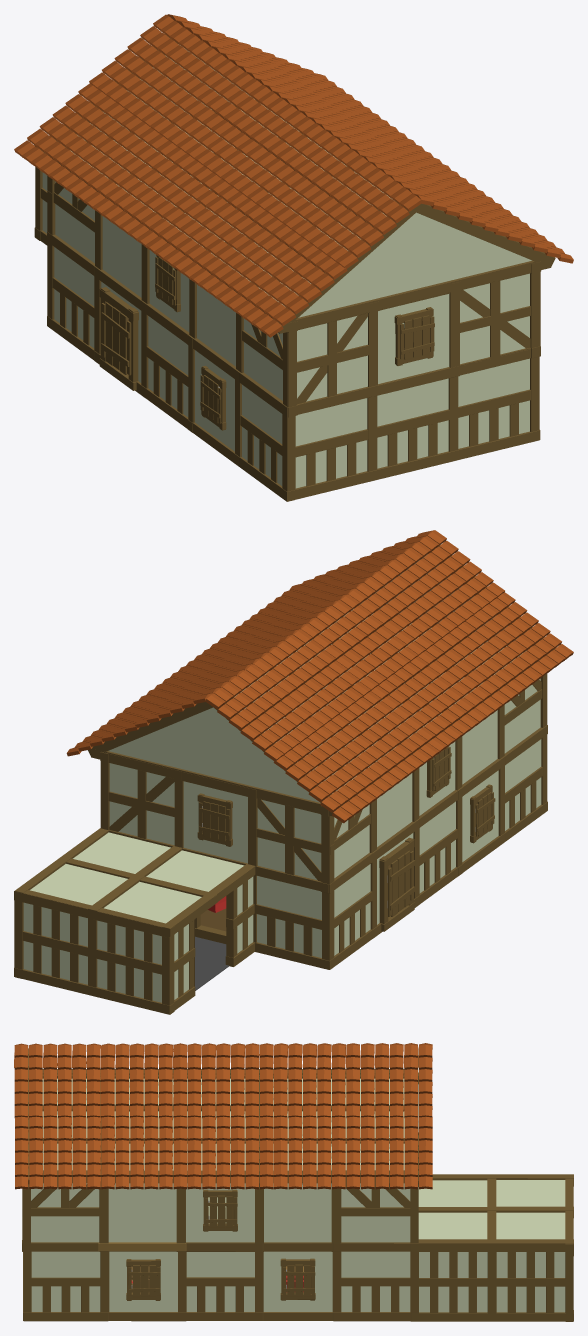
Rendered from house.glb.
3 views of the same model, one above another, from view 1: azimuth 30°, elevation 25°; view 2: azimuth 150°, elevation 25°; view 3: azimuth 270°, elevation 25° (orthographic). The views are drawn at different scales.
Visible parts, largest first — view 1: Wall_02.002, Cube.014, Cube.018, Cube.016, Cube.017, Cube.015, Cube.013, Cube.022, Cube.021, Cube.020, Cube.019, Cube.004 (+13 smaller); view 2: Wall_02.002, Cube.014, Cube.013, Cube.016, Cube.018, Cube.015, Cube.017, Cube.020, Cube.019, Cube.022, Cube.021, Cube.012 (+14 smaller); view 3: Wall_02.002, Cube.005, Cube.007, Cube.004, Cube.003, Cube.006, Cube.008, Cube.009, Cube.011, Cube.010, Cube.012, Plank.168 (+3 smaller).
Boxes of the visible parts, <box> form: Wall_02.002: <box>34,34,555,501</box>; Cube.014: <box>89,14,218,120</box>; Cube.018: <box>194,91,323,197</box>; Cube.016: <box>142,53,270,159</box>; Cube.017: <box>119,160,247,267</box>; Cube.015: <box>67,121,194,228</box>; Cube.013: <box>14,83,142,190</box>; Cube.022: <box>295,164,421,268</box>; Cube.021: <box>220,232,347,337</box>; Cube.020: <box>247,129,371,231</box>; Cube.019: <box>172,198,295,301</box>; Cube.004: <box>369,161,498,232</box>; Wall_02.002: <box>14,545,555,1014</box>; Cube.014: <box>205,664,323,761</box>; Cube.013: <box>273,726,392,823</box>; Cube.016: <box>254,629,370,725</box>; Cube.018: <box>301,594,418,690</box>; Cube.015: <box>323,691,439,788</box>; Cube.017: <box>371,656,486,752</box>; Cube.020: <box>348,561,462,655</box>; Cube.019: <box>418,623,531,718</box>; Cube.022: <box>393,530,504,622</box>; Cube.021: <box>462,592,573,685</box>; Cube.012: <box>135,664,252,727</box>; Wall_02.002: <box>22,1048,573,1321</box>; Cube.005: <box>101,1116,187,1189</box>; Cube.007: <box>187,1116,273,1189</box>; Cube.004: <box>14,1045,100,1117</box>; Cube.003: <box>15,1116,100,1189</box>; Cube.006: <box>101,1045,186,1117</box>; Cube.008: <box>187,1045,273,1117</box>; Cube.009: <box>274,1116,353,1189</box>; Cube.011: <box>353,1116,432,1189</box>; Cube.010: <box>274,1045,353,1117</box>; Cube.012: <box>353,1045,432,1117</box>; Plank.168: <box>205,1195,237,1227</box>.
Bounding box in the file's own units: 6.81 × 5.83 × 13.01.
